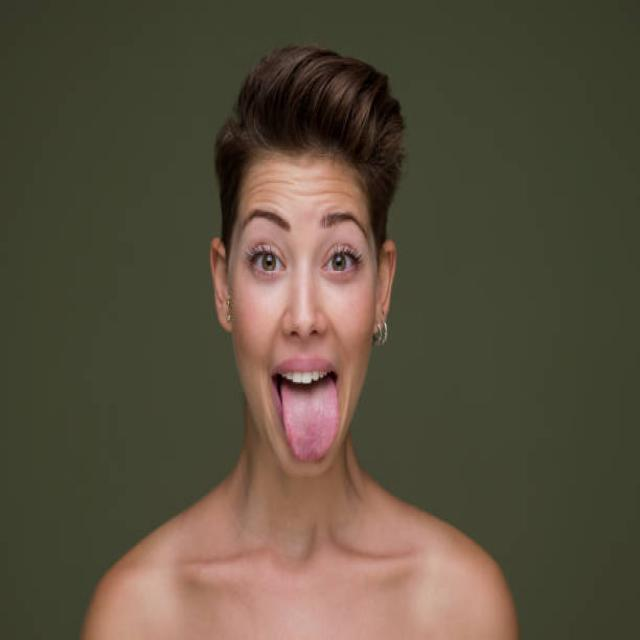tongue: (277, 377, 343, 466)
